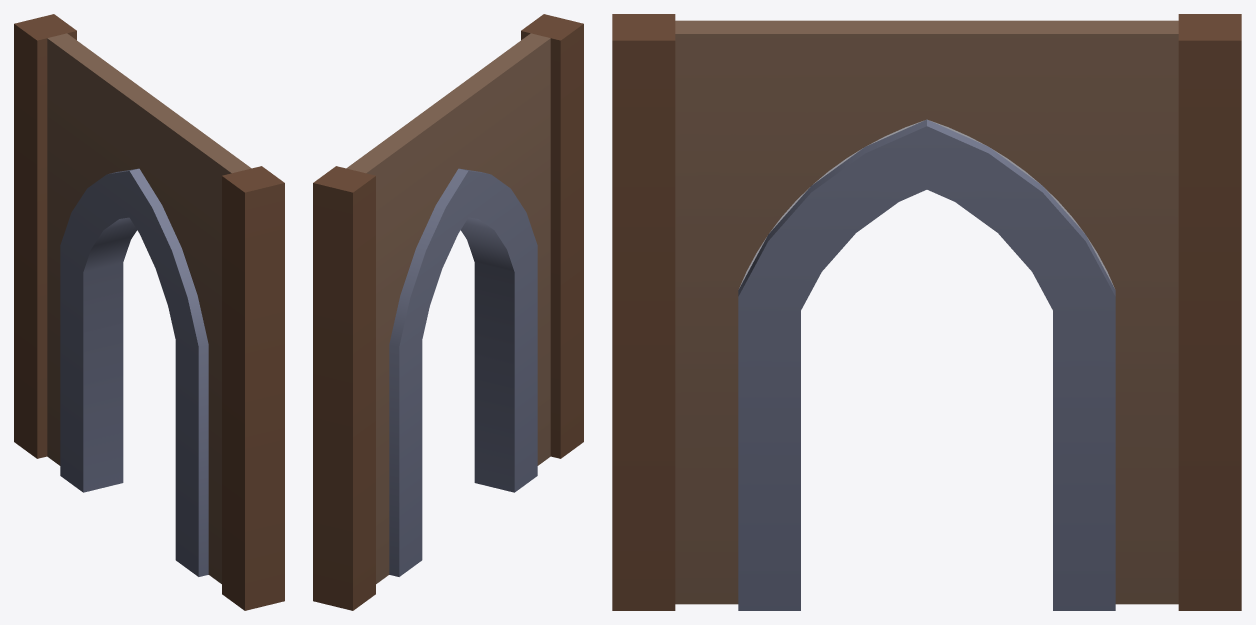
File: wall-wood-doorway-round.glb
3 renders of one model, left to right at view 1: azimuth 30°, elevation 25°; view 2: azimuth 150°, elevation 25°; view 3: azimuth 270°, elevation 25°, orthographic. The views are drawn at different scales.
Parts seen in each view (by area): view 1: wall-wood-doorway-round; view 2: wall-wood-doorway-round; view 3: wall-wood-doorway-round.
Part boxes in pixels (left/top/right/bottom): wall-wood-doorway-round: left=14, top=14, right=284, bottom=610; wall-wood-doorway-round: left=313, top=14, right=583, bottom=610; wall-wood-doorway-round: left=612, top=14, right=1241, bottom=610.
Bounding box in the file's own units: 0.1 × 1 × 1.
Materials: 1 (1 with a texture image).
